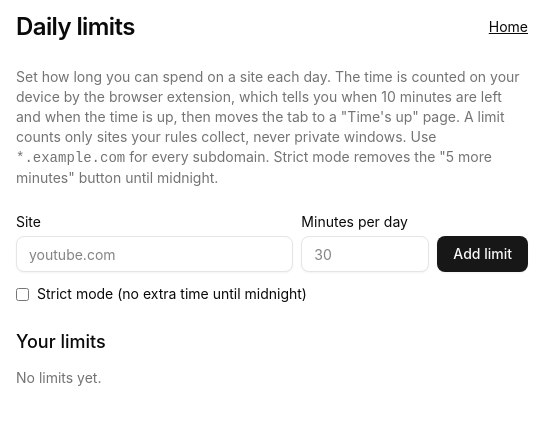
Test: limits page › adds a limit, lowercasing the site, and lists it
Expected: the text "No limits yet." is shown, [16,369,102,386]
Type "  YouTube.com " into the field labelled "Site".
click(155, 254); type("  YouTube.com ")  # box [16,236,293,272]
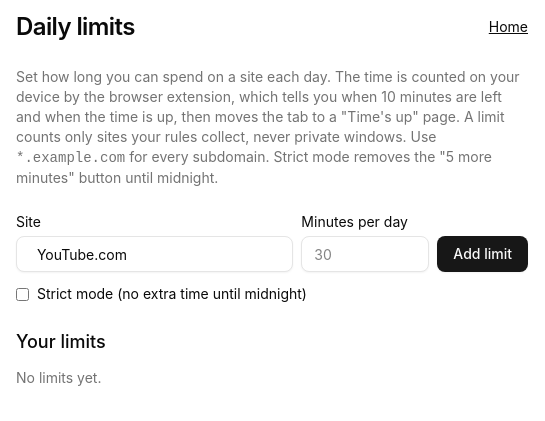
Type "45" into the number field labelled "Minutes per day".
click(365, 254); type("45")  # box [301,236,429,272]
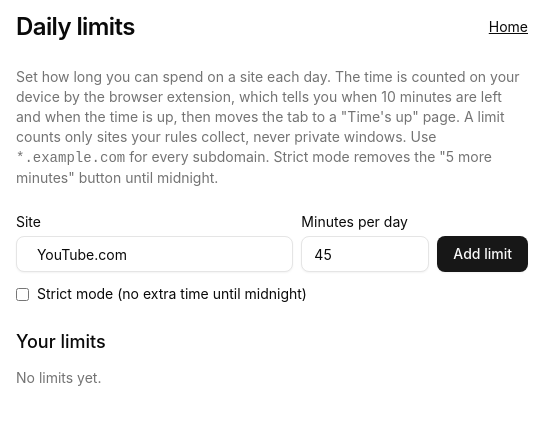
Click the button "Add limit".
click(483, 254)  # box [437,236,528,272]
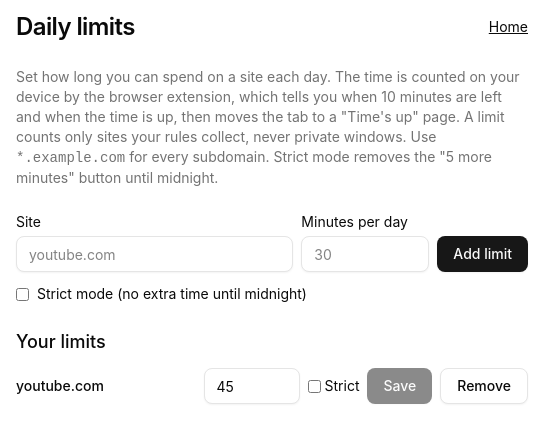
Now the text "youtube.com" is shown, box [16,377,104,394]
